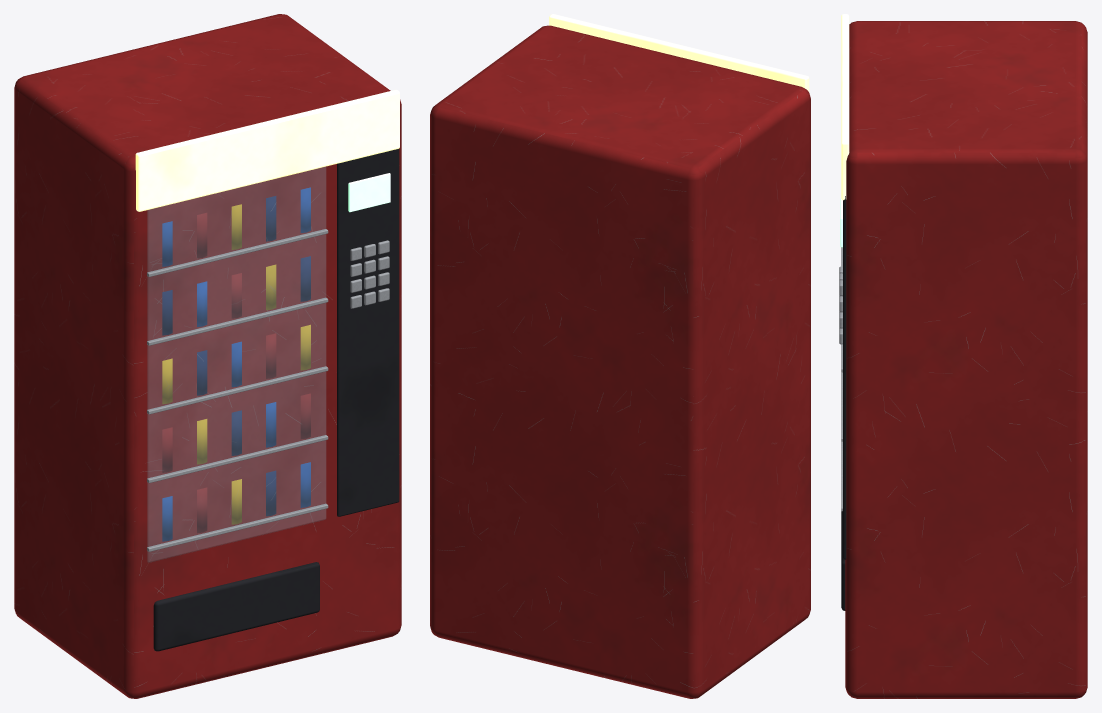
File: VendingMachine.glb
3 renders of one model, left to right at view 1: azimuth 30°, elevation 25°; view 2: azimuth 150°, elevation 25°; view 3: azimuth 270°, elevation 25°, orthographic. The views are drawn at different scales.
Visible parts, largest first — view 1: VendingMachine_MetalRed, VendingMachine_PlasticWhite_99ccf2, VendingMachine_PlasticDark, VendingMachine_PlasticWhite_glow.004, VendingMachine_Steel, VendingMachine_PlasticBlue, VendingMachine_MetalNavy, VendingMachine_MetalYellow, VendingMachine_PlasticWhite_glow.003; view 2: VendingMachine_MetalRed, VendingMachine_PlasticWhite_glow.004; view 3: VendingMachine_MetalRed, VendingMachine_PlasticDark, VendingMachine_PlasticWhite_glow.004, VendingMachine_Steel.
Boxes of the visible parts, x1,y1,x2,y2 form: VendingMachine_MetalRed: [14, 14, 401, 698]; VendingMachine_PlasticWhite_99ccf2: [147, 167, 325, 562]; VendingMachine_PlasticDark: [153, 148, 399, 651]; VendingMachine_PlasticWhite_glow.004: [135, 89, 399, 211]; VendingMachine_Steel: [147, 229, 389, 551]; VendingMachine_PlasticBlue: [162, 187, 310, 541]; VendingMachine_MetalNavy: [162, 196, 310, 516]; VendingMachine_MetalYellow: [162, 204, 310, 524]; VendingMachine_PlasticWhite_glow.003: [348, 173, 390, 212]; VendingMachine_MetalRed: [430, 25, 810, 698]; VendingMachine_PlasticWhite_glow.004: [549, 14, 809, 92]; VendingMachine_MetalRed: [845, 21, 1087, 698]; VendingMachine_PlasticDark: [841, 196, 846, 610]; VendingMachine_PlasticWhite_glow.004: [841, 14, 849, 200]; VendingMachine_Steel: [839, 247, 842, 511].
Size of the model in its own units: 4 by 7.6 by 3.07.
10 materials, 10 textured.
